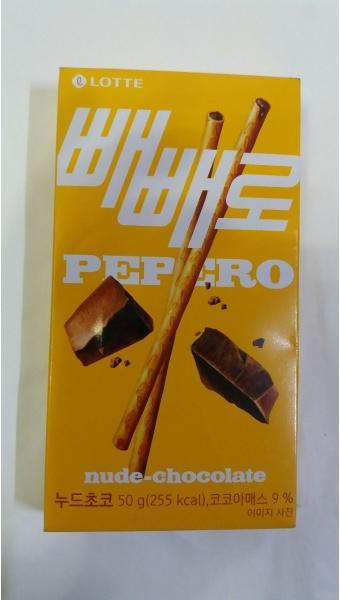snack: (40, 66, 303, 532)
